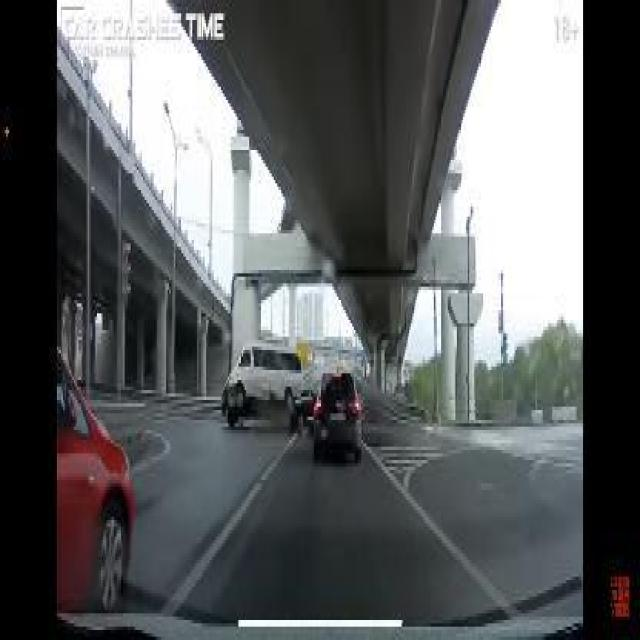accident: (209, 322, 305, 425)
